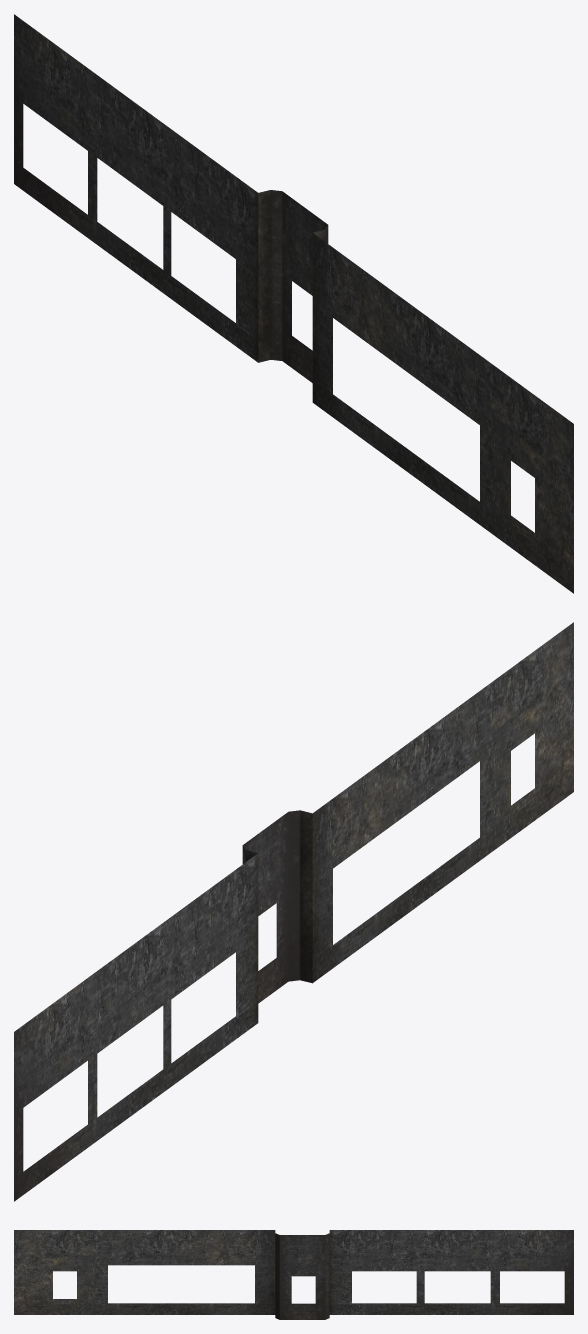
Rendered from Wall_07.FBX.
3 renders of one model, top to bottom at view 1: azimuth 30°, elevation 25°; view 2: azimuth 150°, elevation 25°; view 3: azimuth 270°, elevation 25°, orthographic. The views are drawn at different scales.
Parts seen in each view (by area): view 1: Wall_07; view 2: Wall_07; view 3: Wall_07.
Boxes of the visible parts, x1,y1,x2,y2 form: Wall_07: [14, 14, 573, 593]; Wall_07: [14, 622, 573, 1201]; Wall_07: [14, 1230, 573, 1319].
Size of the model in its own units: 62.38 by 511 by 3053.
